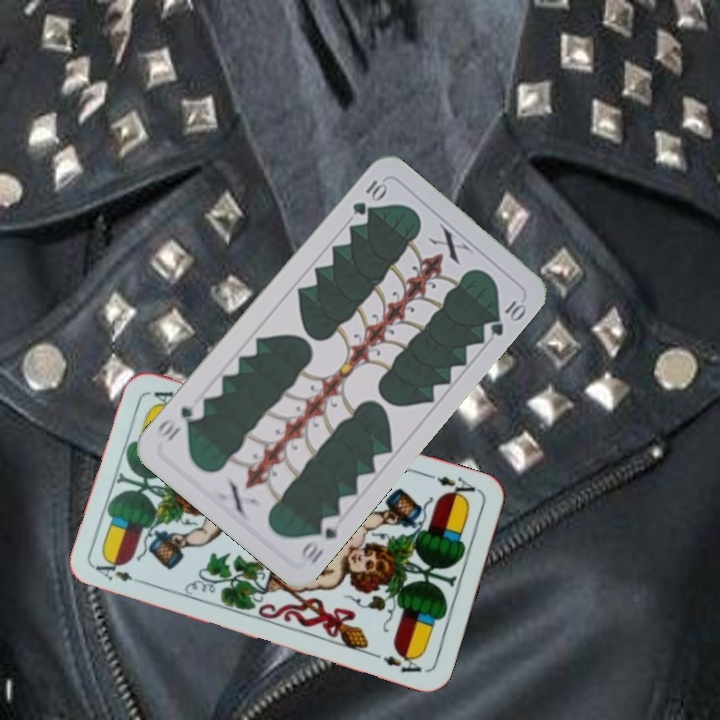EA: (91, 554, 149, 588), (432, 471, 483, 503)
G10: (295, 511, 344, 567), (348, 175, 390, 218)
